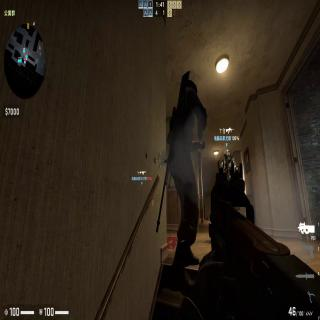CT-Head: (222, 151, 232, 162)
T-Body: (168, 74, 206, 267)
